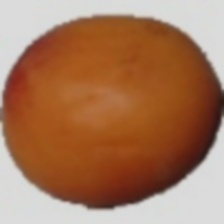apricot: (9, 26, 185, 218)
